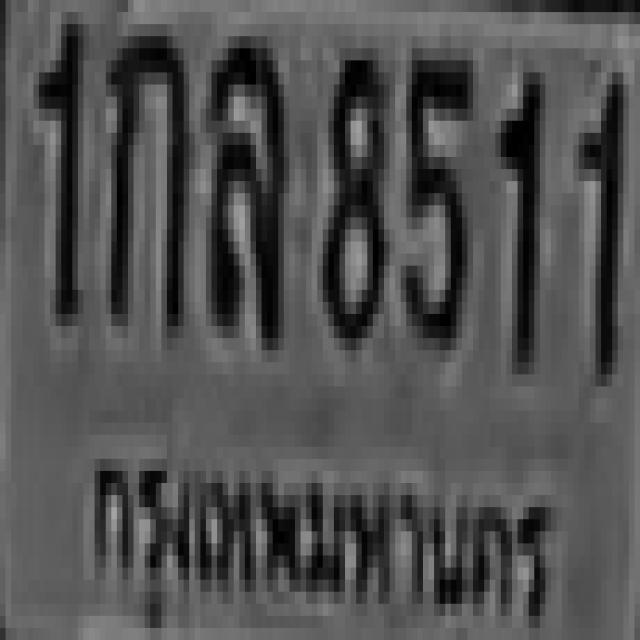1: (574, 66, 624, 368), (495, 60, 540, 362), (33, 12, 78, 314)
10GorGai: (105, 18, 183, 320)
45LorLing: (206, 24, 284, 326)
5: (400, 36, 468, 338)
8: (317, 36, 384, 338)
Bangkok: (86, 430, 556, 640)
